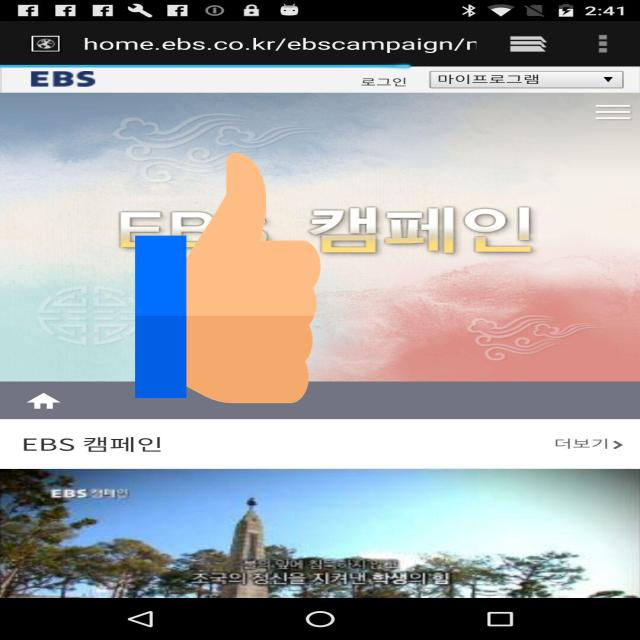privacy zuckering: (135, 147, 321, 409)
